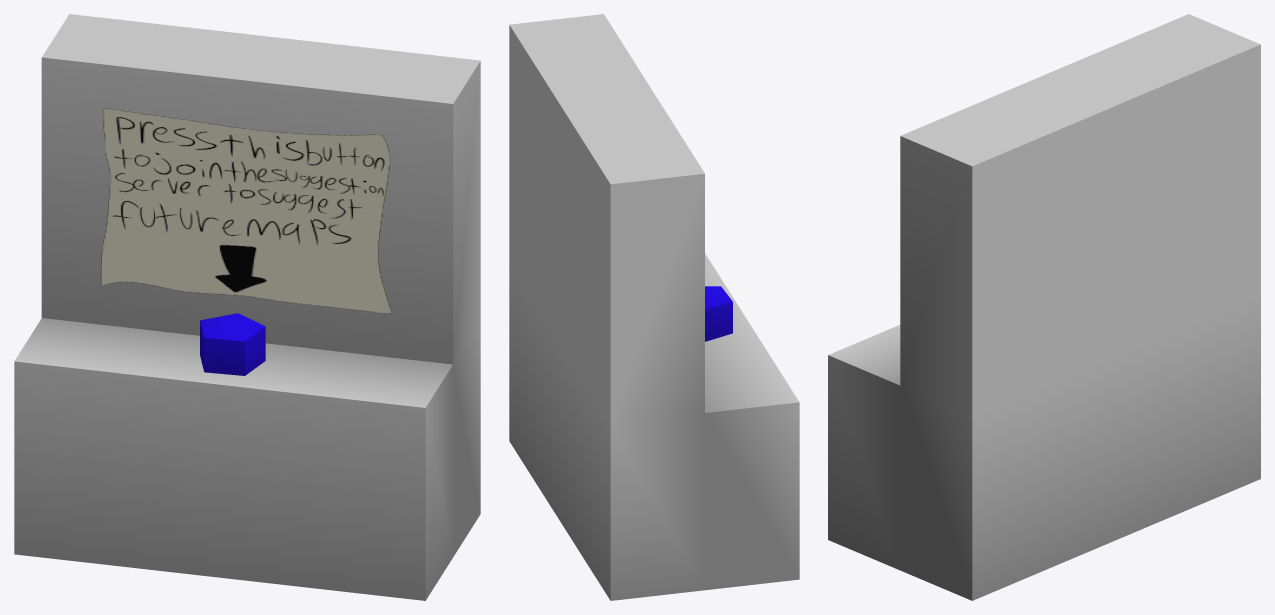
File: Sign 01.fbx
The picture shows the model from 3 angles, left to right: view 1: azimuth 30°, elevation 25°; view 2: azimuth 150°, elevation 25°; view 3: azimuth 270°, elevation 25°; orthographic projection. The views are drawn at different scales.
Parts seen in each view (by area): view 1: suggestion sign.001; view 2: suggestion sign.001; view 3: suggestion sign.001.
Part boxes in pixels (box(x1,y1,x2,y2)): suggestion sign.001: box(14, 14, 480, 600); suggestion sign.001: box(509, 14, 799, 600); suggestion sign.001: box(828, 14, 1260, 600).
Bounding box in the file's own units: 339 × 376 × 339.
